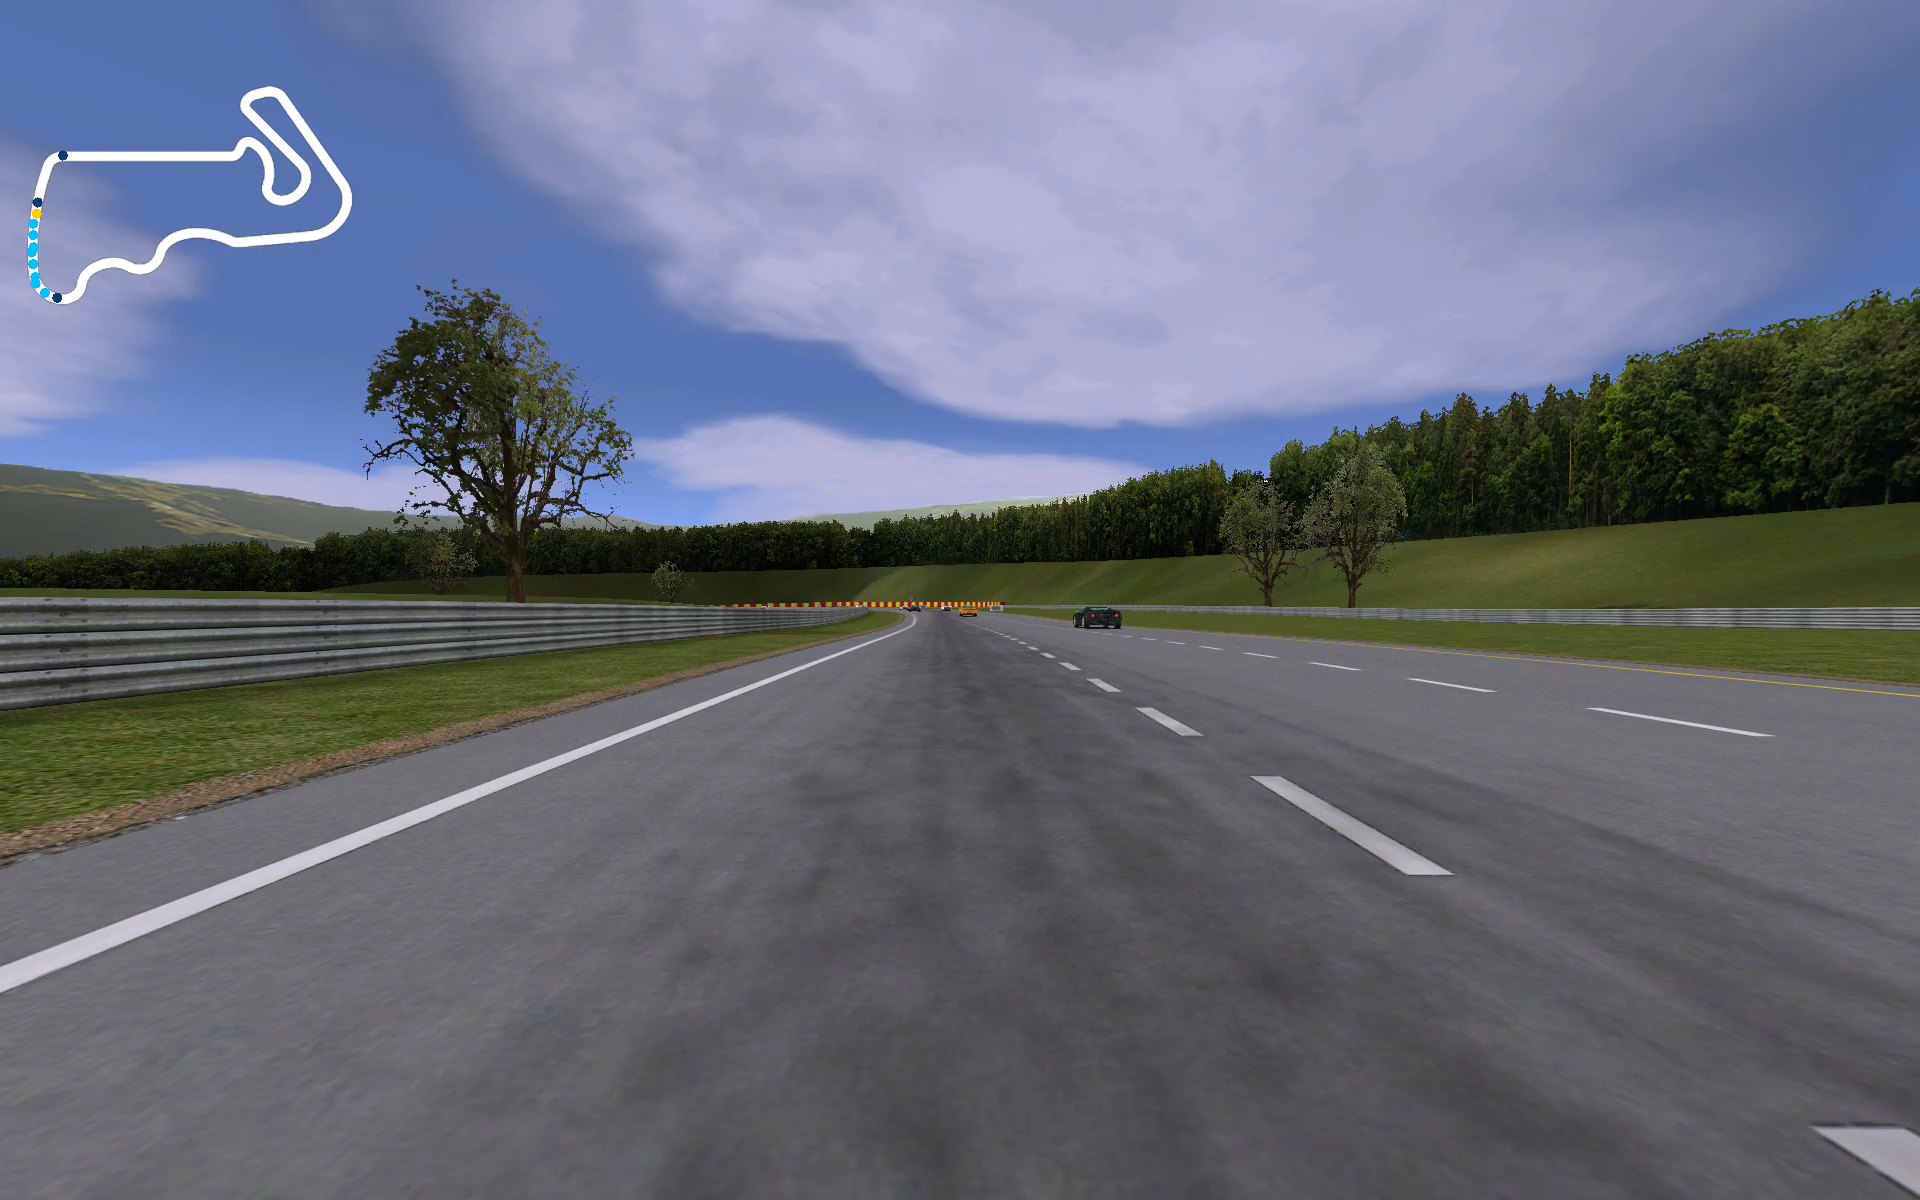car: (1071, 606, 1125, 632)
